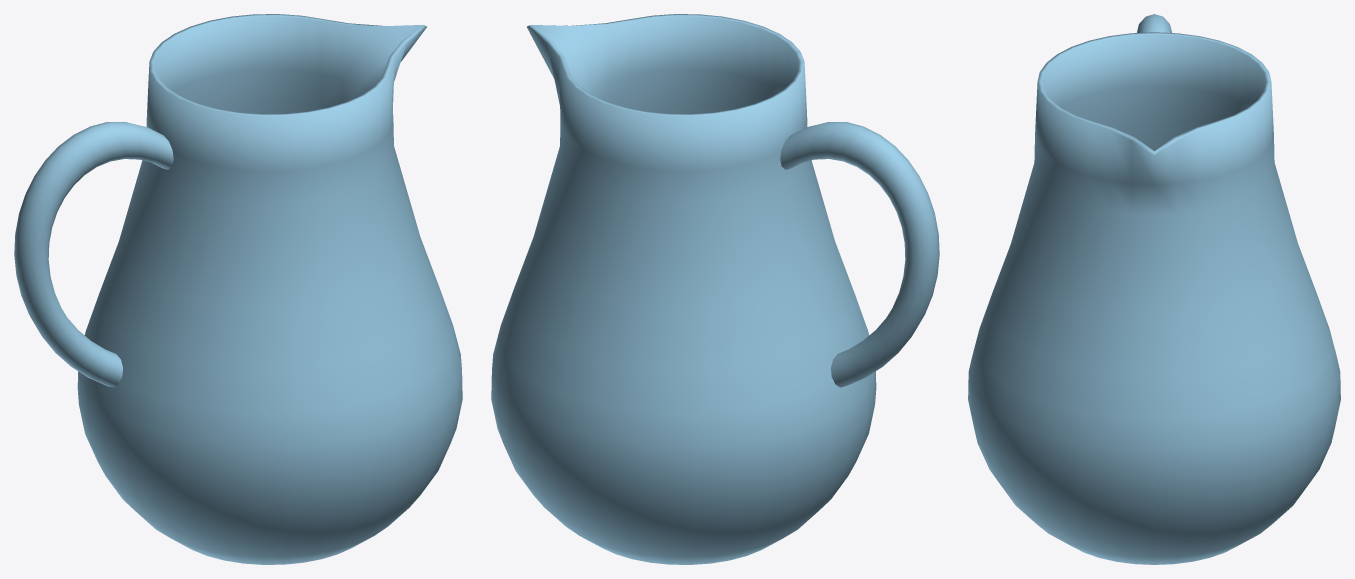
File: Lemonade Pitcher.fbx
The picture shows the model from 3 angles, left to right: view 1: azimuth 30°, elevation 25°; view 2: azimuth 150°, elevation 25°; view 3: azimuth 270°, elevation 25°; orthographic projection. The views are drawn at different scales.
Parts seen in each view (by area): view 1: Sphere.049, Torus; view 2: Sphere.049, Torus; view 3: Sphere.049, Torus.
Boxes of the visible parts, x1=… form: Sphere.049: x1=77, y1=14, x2=462, y2=564; Torus: x1=14, y1=122, x2=173, y2=387; Sphere.049: x1=491, y1=14, x2=876, y2=564; Torus: x1=780, y1=122, x2=939, y2=387; Sphere.049: x1=968, y1=32, x2=1340, y2=564; Torus: x1=1137, y1=14, x2=1171, y2=32.
Bounding box in the file's own units: 262 × 274 × 208.
